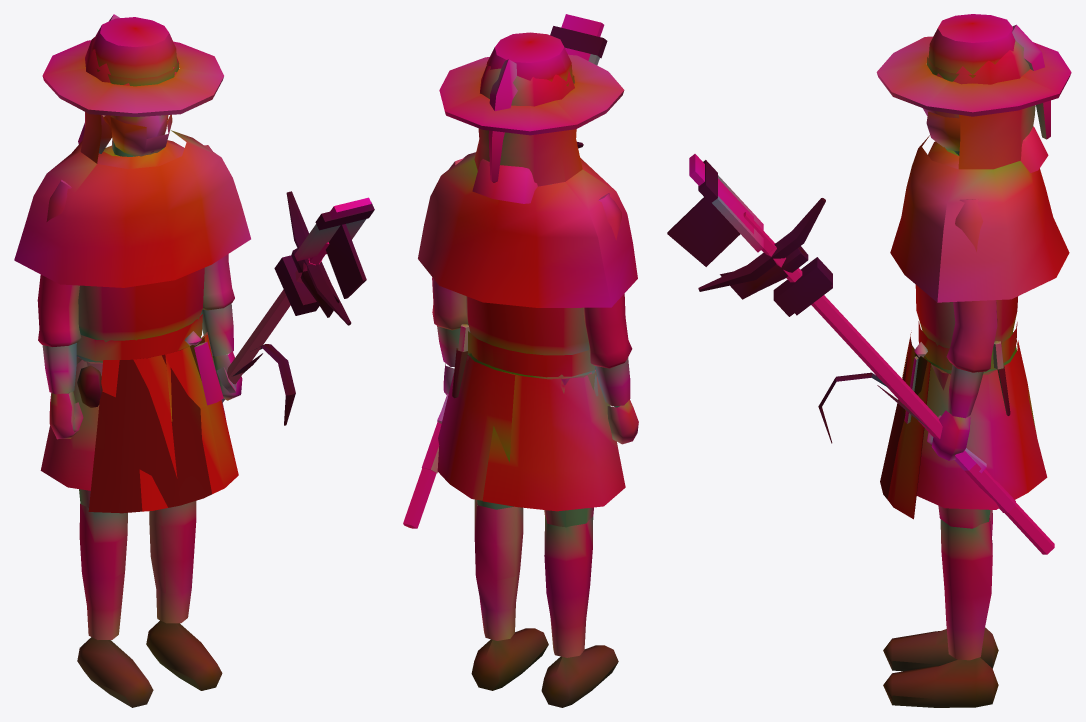
File: peasant.glb
3 renders of one model, left to right at view 1: azimuth 30°, elevation 25°; view 2: azimuth 150°, elevation 25°; view 3: azimuth 270°, elevation 25°, orthographic. The views are drawn at different scales.
Visible parts, largest first — view 1: peasant_LOD0; view 2: peasant_LOD0; view 3: peasant_LOD0.
Boxes of the visible parts, <box> form: peasant_LOD0: <box>14,14,374,707</box>; peasant_LOD0: <box>403,14,638,707</box>; peasant_LOD0: <box>667,14,1071,707</box>.
Size of what is drawn, in the model's own units: 0.3246 by 0.9622 by 0.5315.
